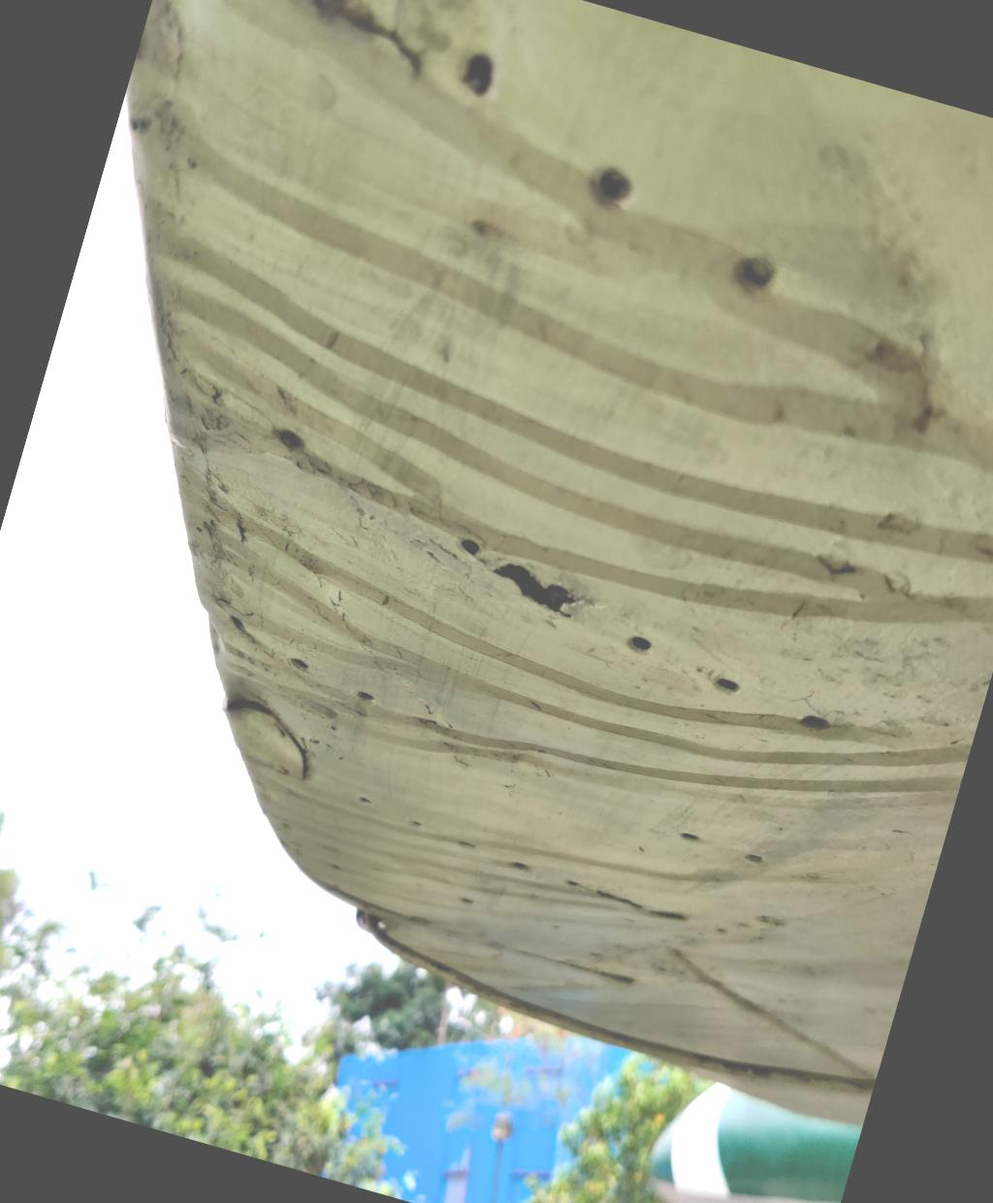crack: (421, 498, 632, 665)
